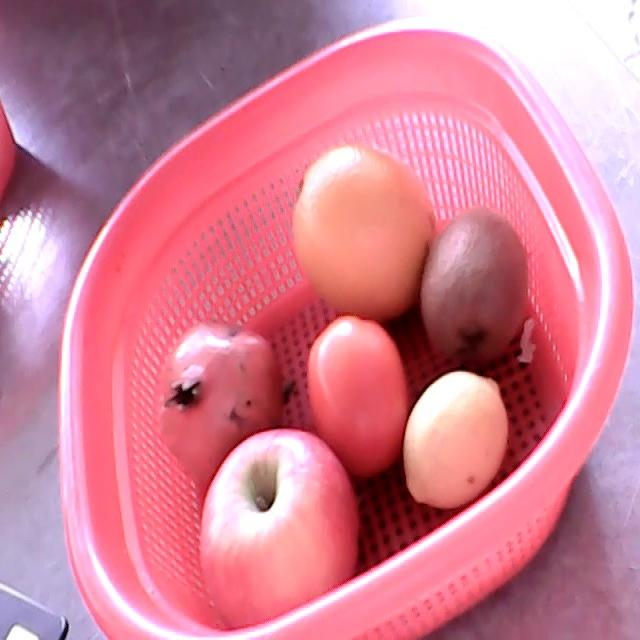apple: (199, 427, 360, 630)
kiwi: (421, 205, 528, 364)
lemon: (402, 370, 508, 509)
orange: (292, 146, 435, 322)
pomegranate: (151, 320, 279, 484)
tomato: (307, 317, 411, 477)
